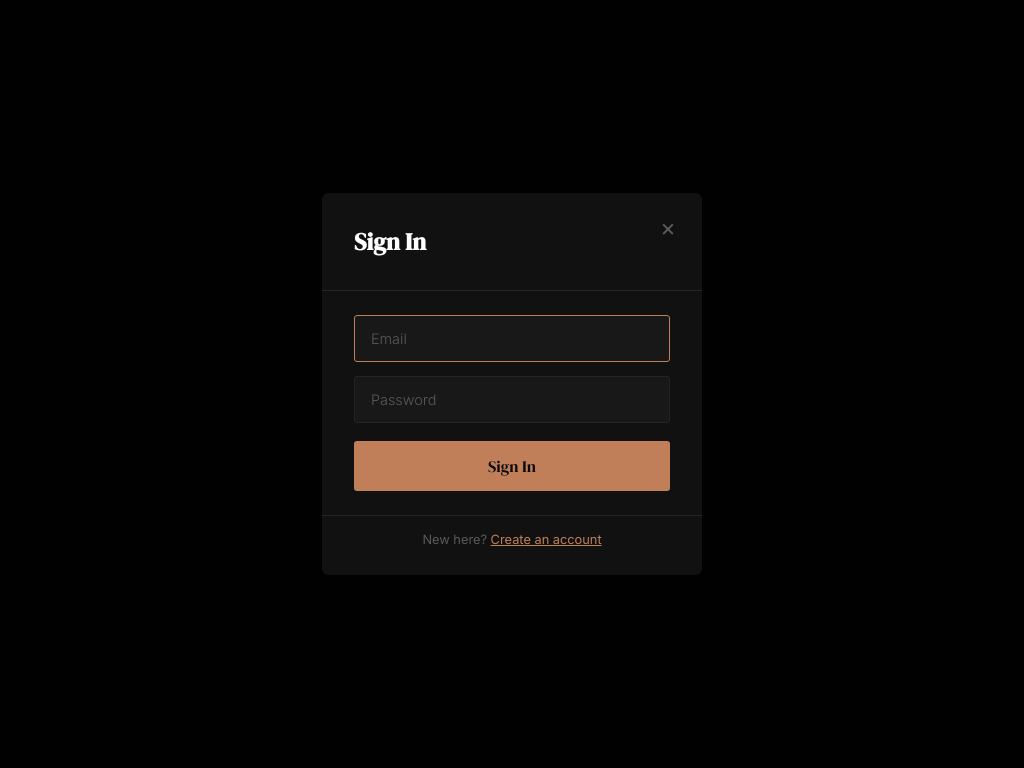
Test: AuthModal › form submission — sign in › shows error message on failed sign in
Type "wrong@example.com" into the field with placeholder "Email". click: (512, 338)
box: left=354, top=315, right=670, bottom=362
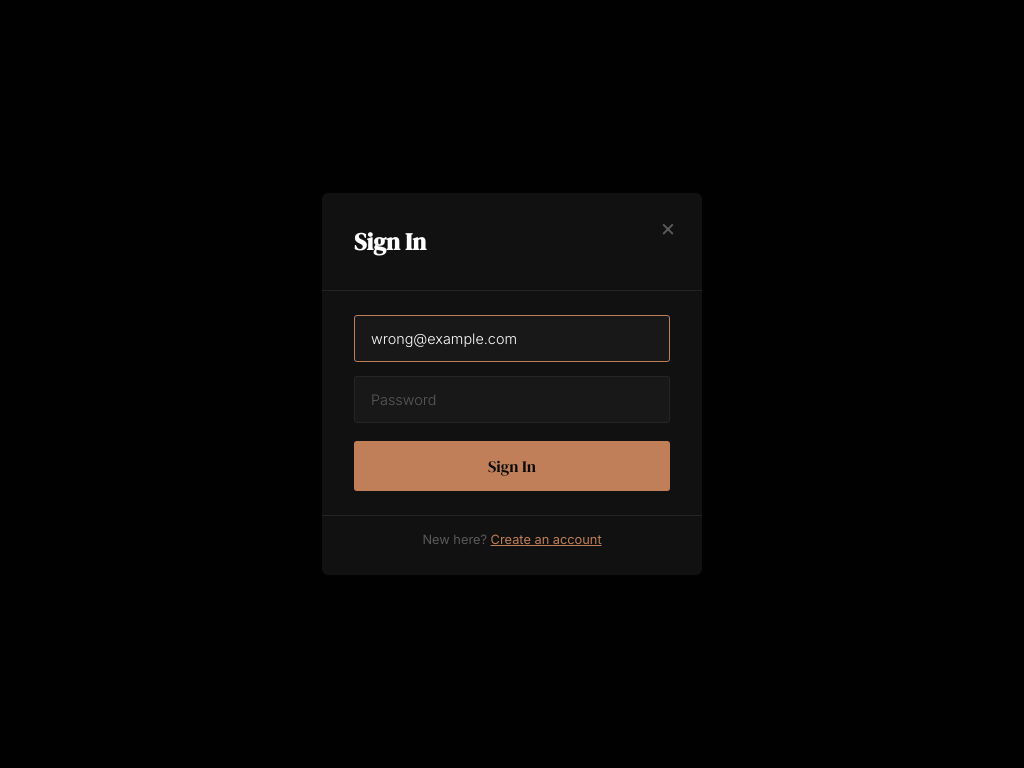
Type "wrongpass" into the password field with placeholder "Password". click: (512, 400)
box: left=354, top=376, right=670, bottom=423
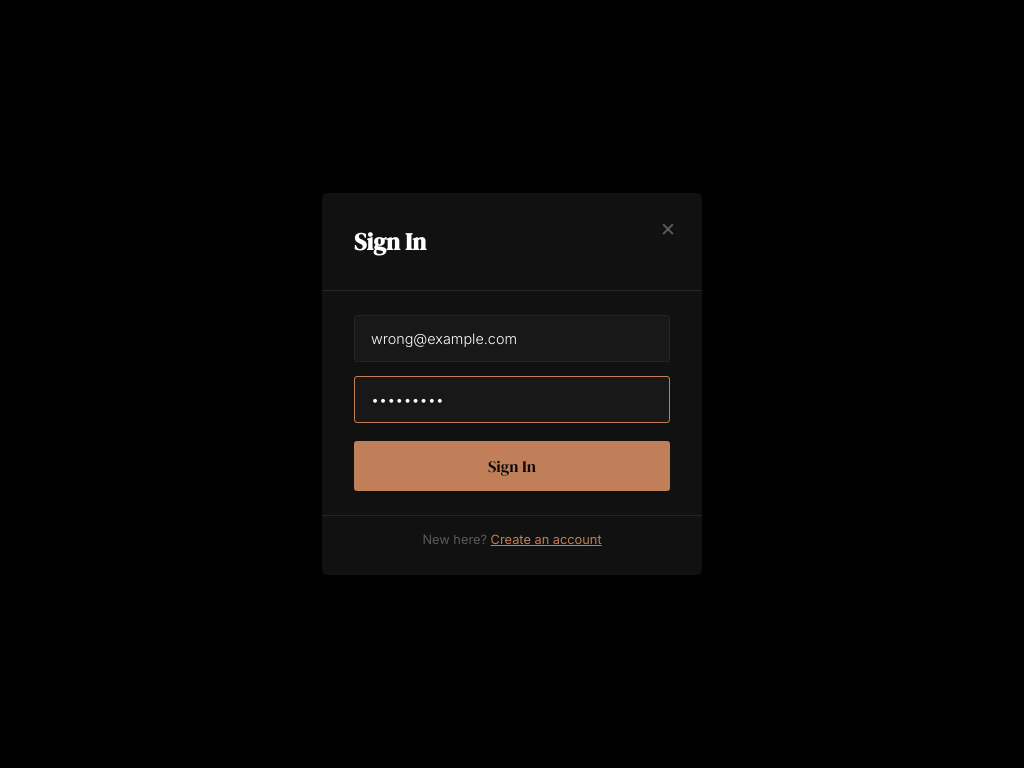
Click the button "Sign In". click: (512, 466)
box: left=354, top=441, right=670, bottom=491
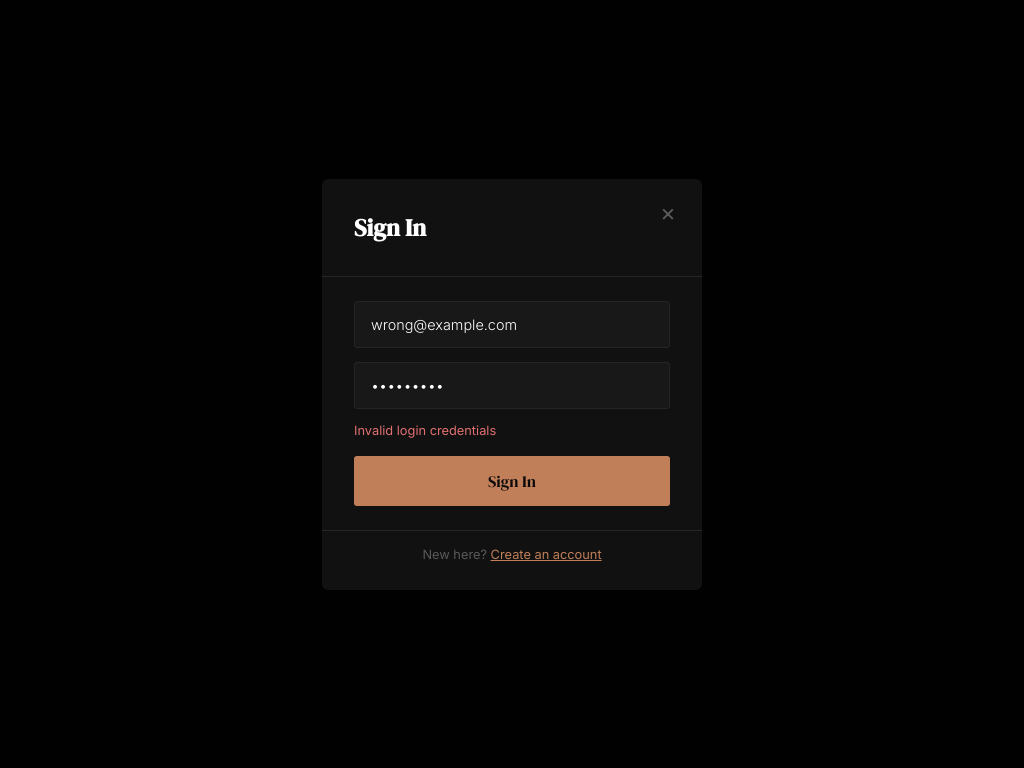
Check: the text "Invalid login credentials" is shown, box left=354, top=422, right=496, bottom=438
